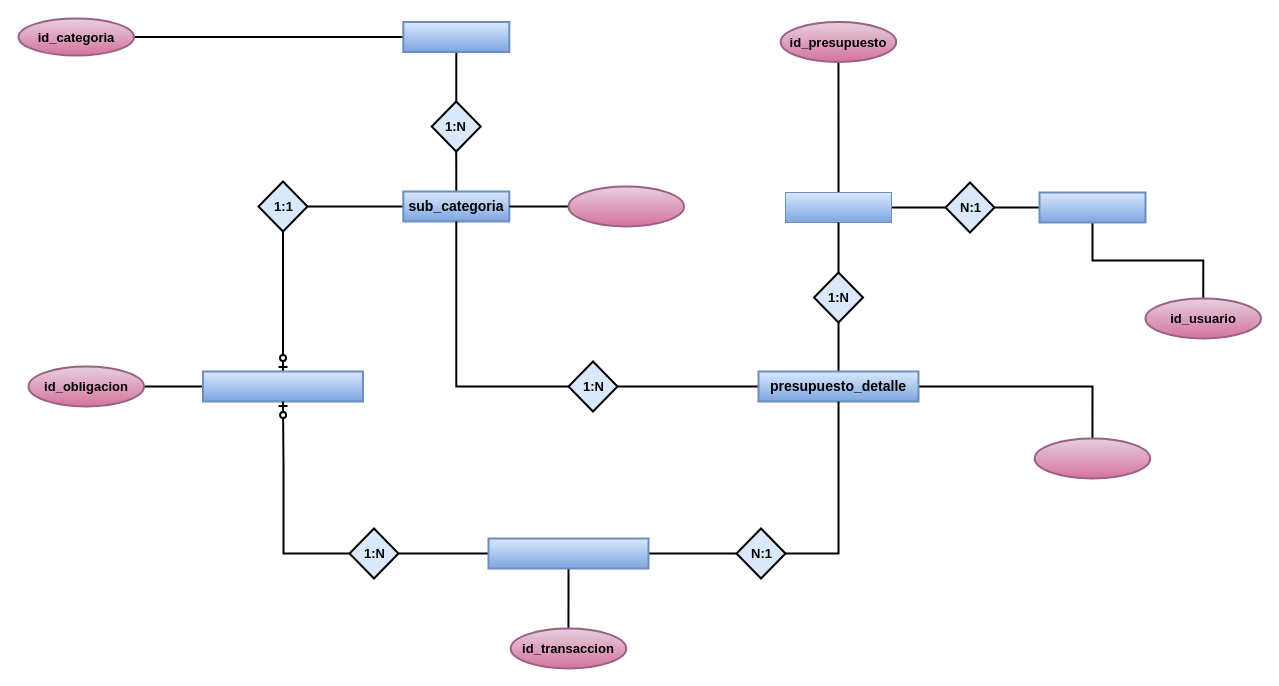
This 1279x686 diagram has some shape labels left out. The centre of each missing label's shape, as x and y in pixels:
categoria: point (456, 36)
id_detalle: point (1092, 458)
id_subcategoria: point (625, 206)
obligacion_fija: point (283, 386)
presupuesto: point (838, 207)
transaccion: point (568, 553)
usuario: point (1092, 207)
